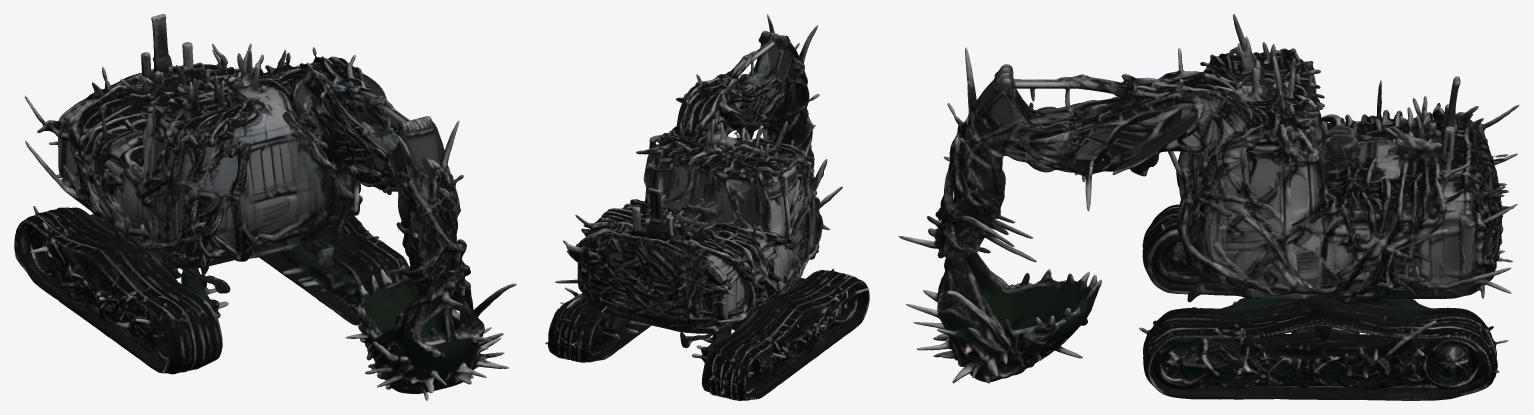
Rendered from infrastructure-more-positive.glb.
3 renders of one model, left to right at view 1: azimuth 30°, elevation 25°; view 2: azimuth 150°, elevation 25°; view 3: azimuth 270°, elevation 25°, orthographic. The views are drawn at different scales.
Parts seen in each view (by area): view 1: tripo_node_c2ea7eff-3a69-427e-ac2f-15b731056be6; view 2: tripo_node_c2ea7eff-3a69-427e-ac2f-15b731056be6; view 3: tripo_node_c2ea7eff-3a69-427e-ac2f-15b731056be6.
Boxes of the visible parts, x1,y1,x2,y2 form: tripo_node_c2ea7eff-3a69-427e-ac2f-15b731056be6: [14, 14, 516, 400]; tripo_node_c2ea7eff-3a69-427e-ac2f-15b731056be6: [545, 14, 869, 400]; tripo_node_c2ea7eff-3a69-427e-ac2f-15b731056be6: [898, 14, 1519, 400].
Bounding box in the file's own units: 0.5785 × 0.5449 × 0.9998.
1 material, 1 textured.
